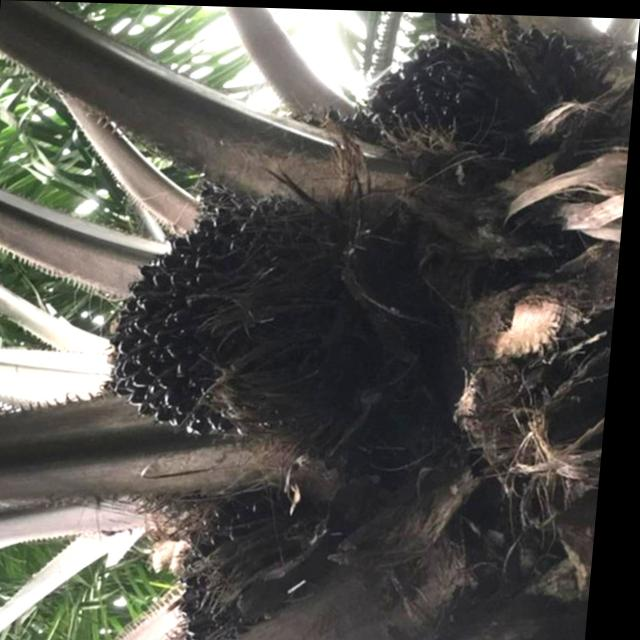ripe: (88, 169, 370, 419)
